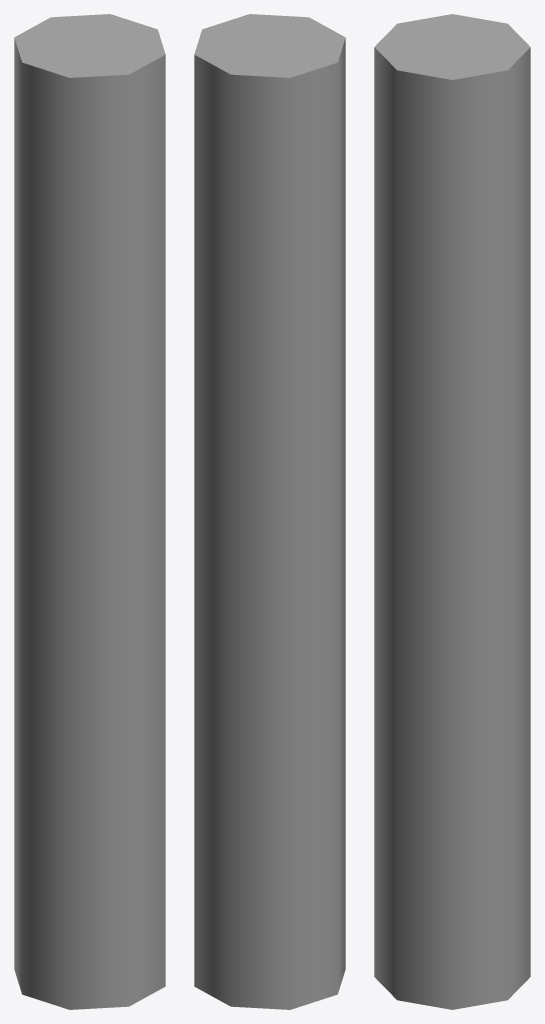
Rendered from Column_A1.fbx.
The picture shows the model from 3 angles, left to right: view 1: azimuth 30°, elevation 25°; view 2: azimuth 150°, elevation 25°; view 3: azimuth 270°, elevation 25°; orthographic projection.
Parts seen in each view (by area): view 1: Column_A1; view 2: Column_A1; view 3: Column_A1.
Part boxes in pixels (x1,y1,x2,y2): Column_A1: (14, 14, 165, 1009); Column_A1: (194, 14, 345, 1009); Column_A1: (374, 14, 530, 1009).
Size of the model in its own units: 75.87 by 498 by 75.87.
Materials: 1 (1 with a texture image).
